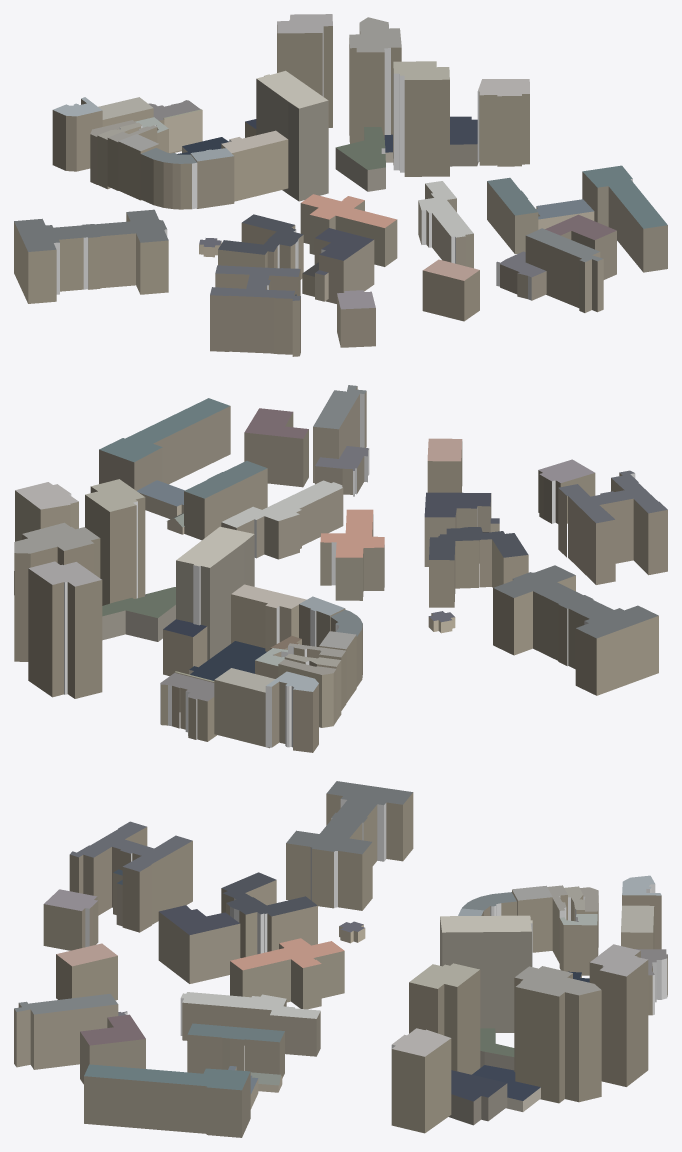
The picture shows the model from 3 angles, top to bottom: view 1: azimuth 30°, elevation 25°; view 2: azimuth 150°, elevation 25°; view 3: azimuth 270°, elevation 25°; orthographic projection. The views are drawn at different scales.
Parts seen in each view (by area): view 1: tuile; view 2: tuile; view 3: tuile.
Part boxes in pixels (x1,y1,x2,y2): tuile: (14,14,667,356); tuile: (14,385,667,752); tuile: (14,781,667,1137).
Size of the model in its own units: 290 by 52.93 by 275.
